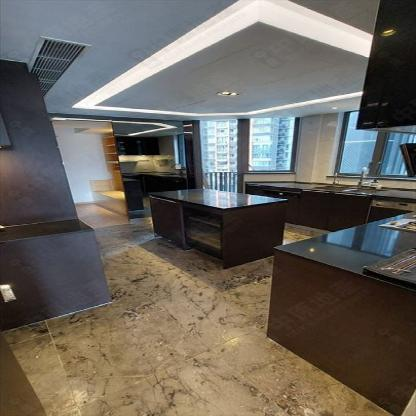Cupboard: (147, 188, 284, 269)
Faucet: (356, 166, 365, 186)
Oven: (366, 200, 415, 224)
Sink: (307, 185, 390, 193)
Stove: (379, 217, 415, 232)
